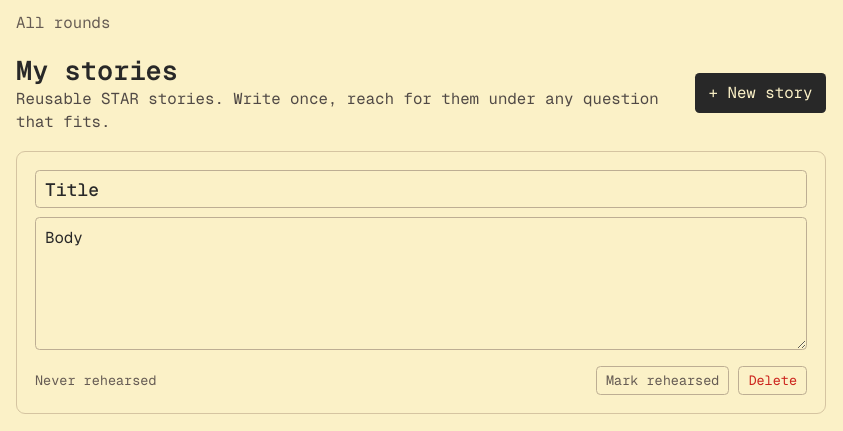
StoriesView › deleting a story asks for confirmation and removes it on accept
Click the button "Delete" at (773,380), box [738, 366, 807, 395]
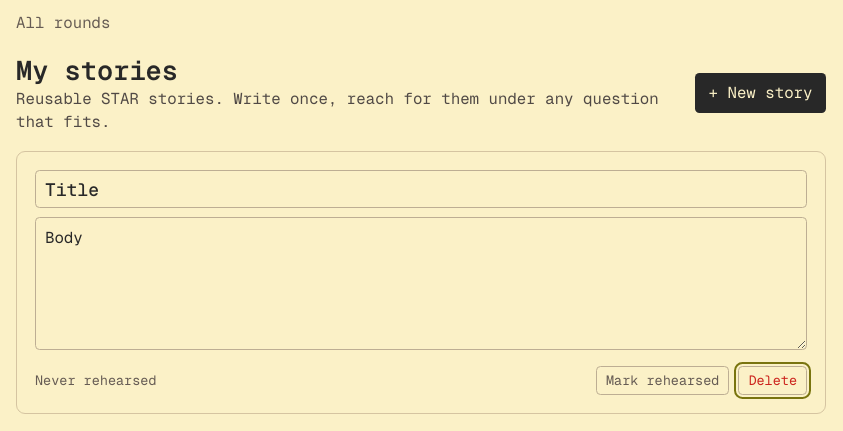
Expected: the field showing "Title" is shown, [35, 170, 807, 208]
Click the button "Delete" at (773,380), box [738, 366, 807, 395]
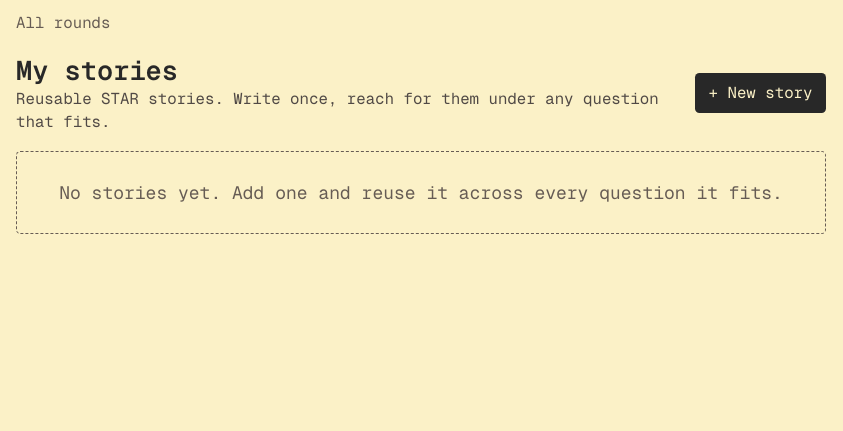
Expected: the text "No stories yet" is shown, [59, 182, 783, 204]
